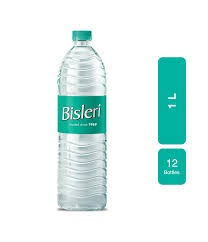Bisleri-water: (55, 29, 112, 218)
